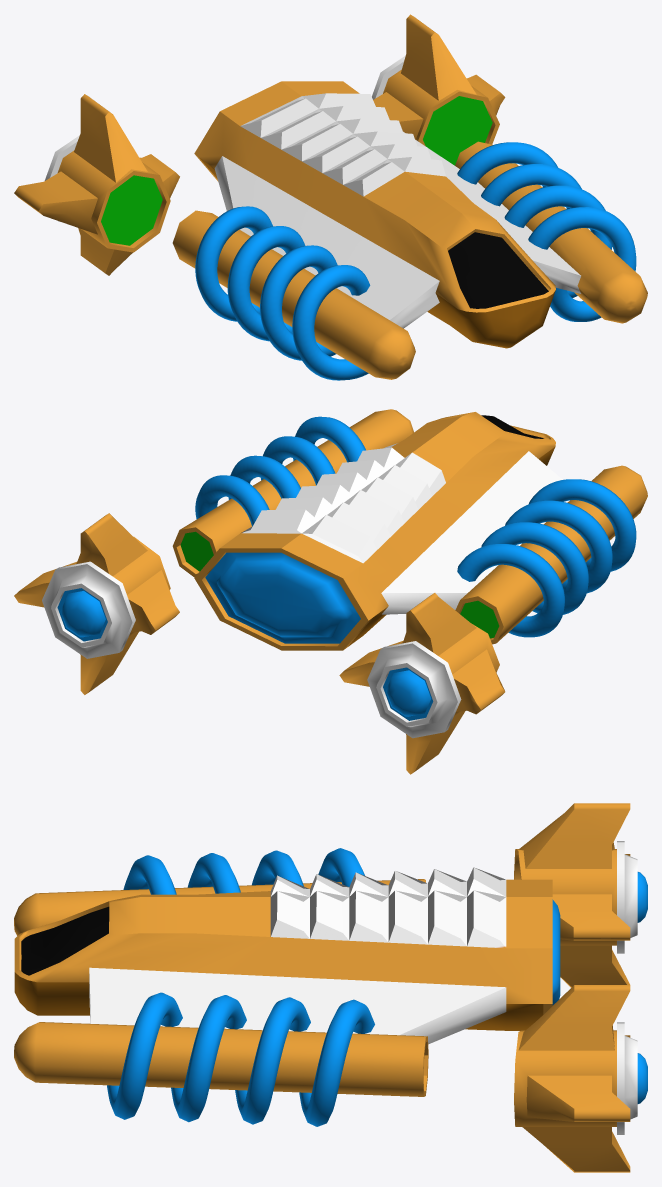
The model's file is InvincibilityShip.fbx.
The picture shows the model from 3 angles, top to bottom: view 1: azimuth 30°, elevation 25°; view 2: azimuth 150°, elevation 25°; view 3: azimuth 270°, elevation 25°; orthographic projection. The views are drawn at different scales.
Parts seen in each view (by area): view 1: Cabin, Engine1, Coil1, Engine, Coil; view 2: Cabin, Engine1, Engine, Coil1, Coil; view 3: Cabin, Engine, Engine1, Coil, Coil1.
Boxes of the visible parts, x1,y1,x2,y2 form: Cabin: (172,81,647,379); Engine1: (14,94,179,275); Coil1: (195,206,370,380); Engine: (372,14,505,165); Coil: (457,142,636,321); Cabin: (172,409,647,650); Engine1: (339,593,505,774); Engine: (14,513,179,694); Coil1: (457,479,636,637); Coil: (195,416,365,526); Cabin: (14,867,560,1096); Engine: (514,985,647,1172); Engine1: (514,803,647,987); Coil: (107,992,374,1126); Coil1: (123,848,364,894).
Bounding box in the file's own units: 1.83 × 0.6475 × 1.89.
